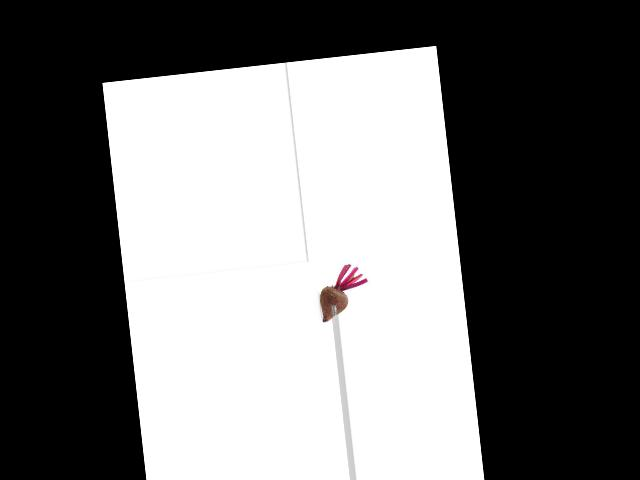beet: (316, 262, 371, 322)
